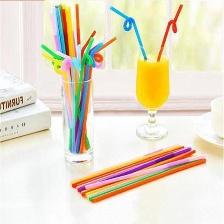drinking_straw: (65, 139, 211, 205), (107, 3, 149, 63), (152, 3, 188, 65)
glass: (55, 70, 100, 167), (132, 42, 175, 142)
